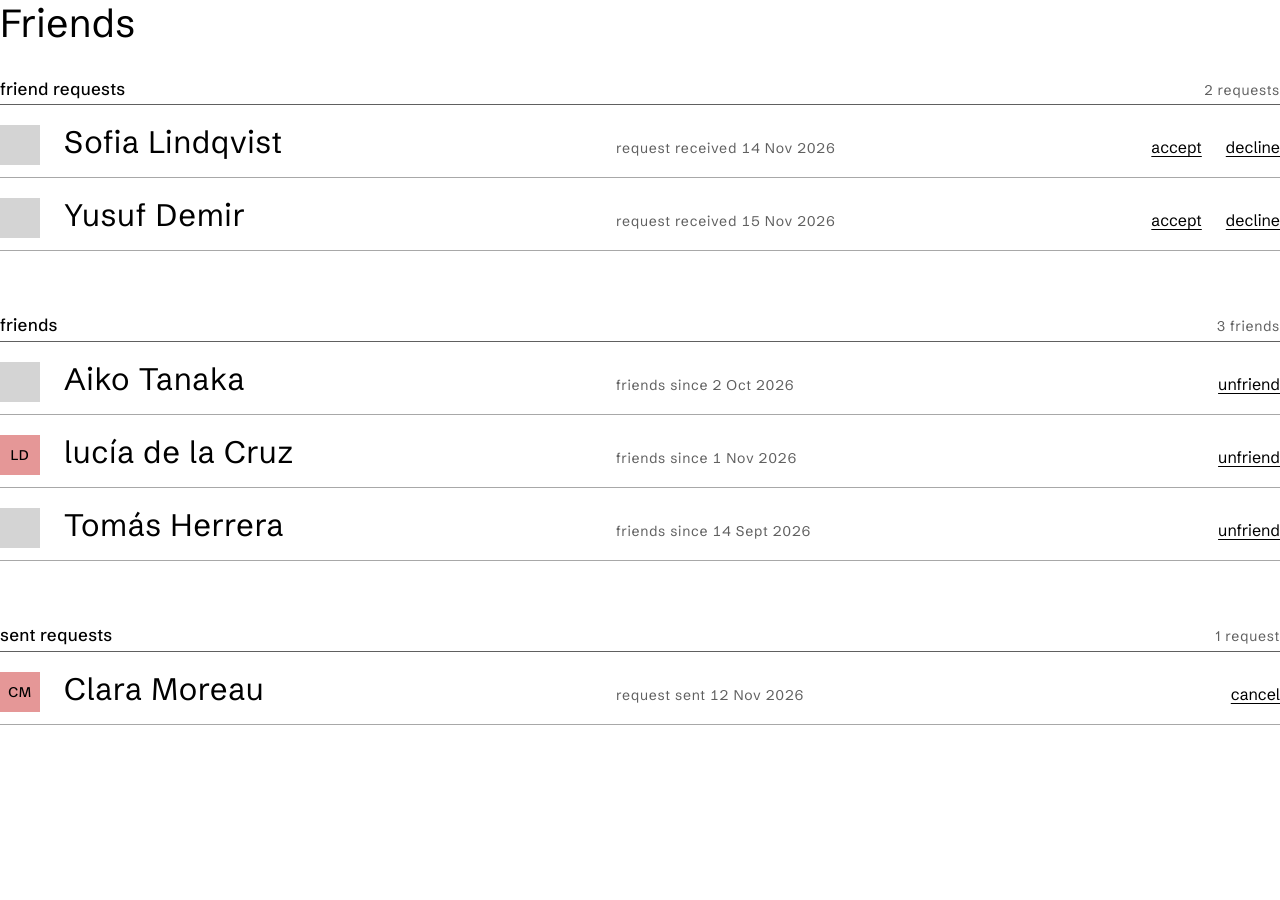
FriendsPage actions (F-49, F-50, F-55, B-26, B-27) › F-50: "unfriend" asks first and then removes the friend
The image size is (1280, 900).
Expected: the element "friends" is shown, [0, 315, 1279, 561]
Click the button named "unfriend Tomás Herrera" at (1249, 531), box [1218, 519, 1279, 543]
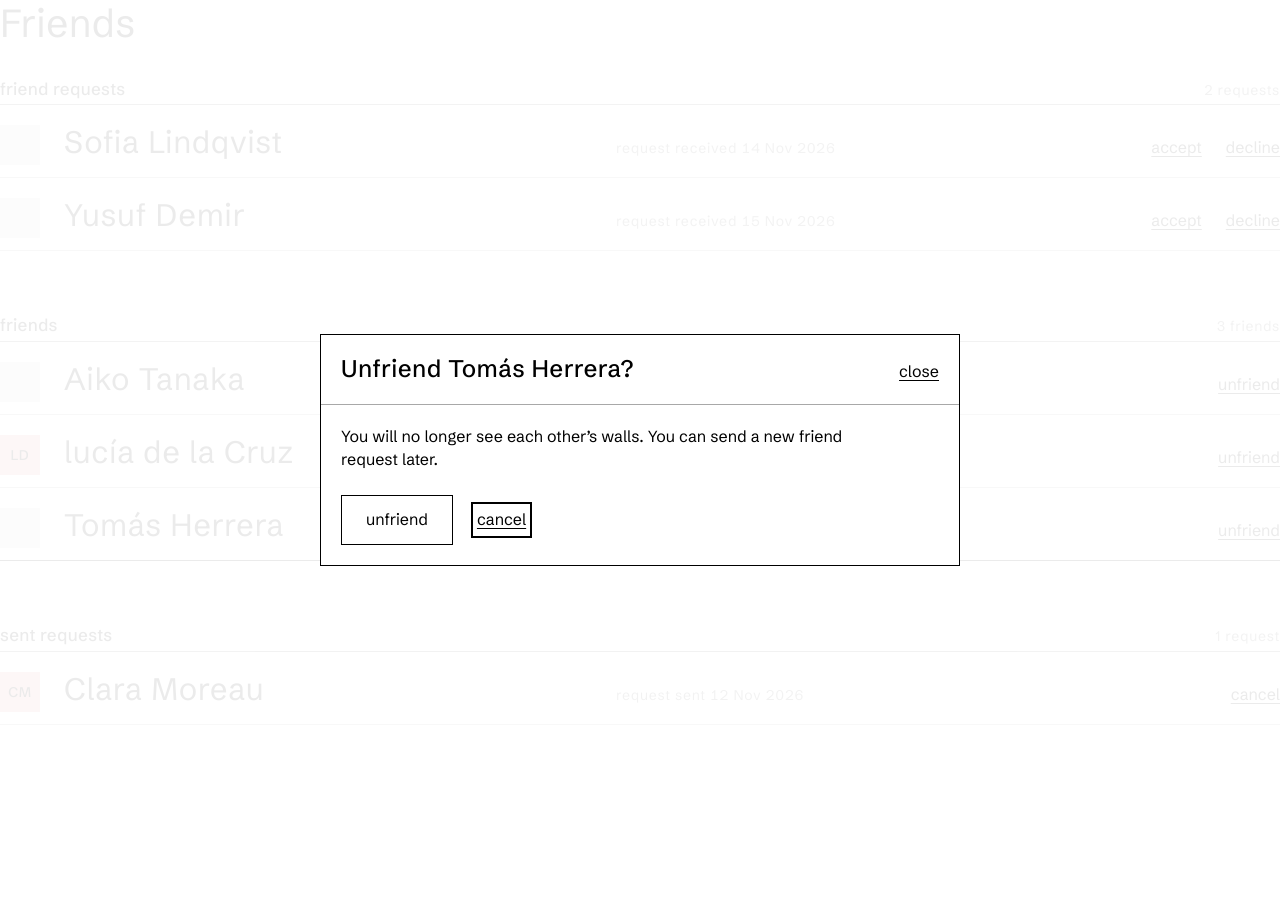
Click the button "unfriend" at (397, 520), box [341, 496, 453, 545]
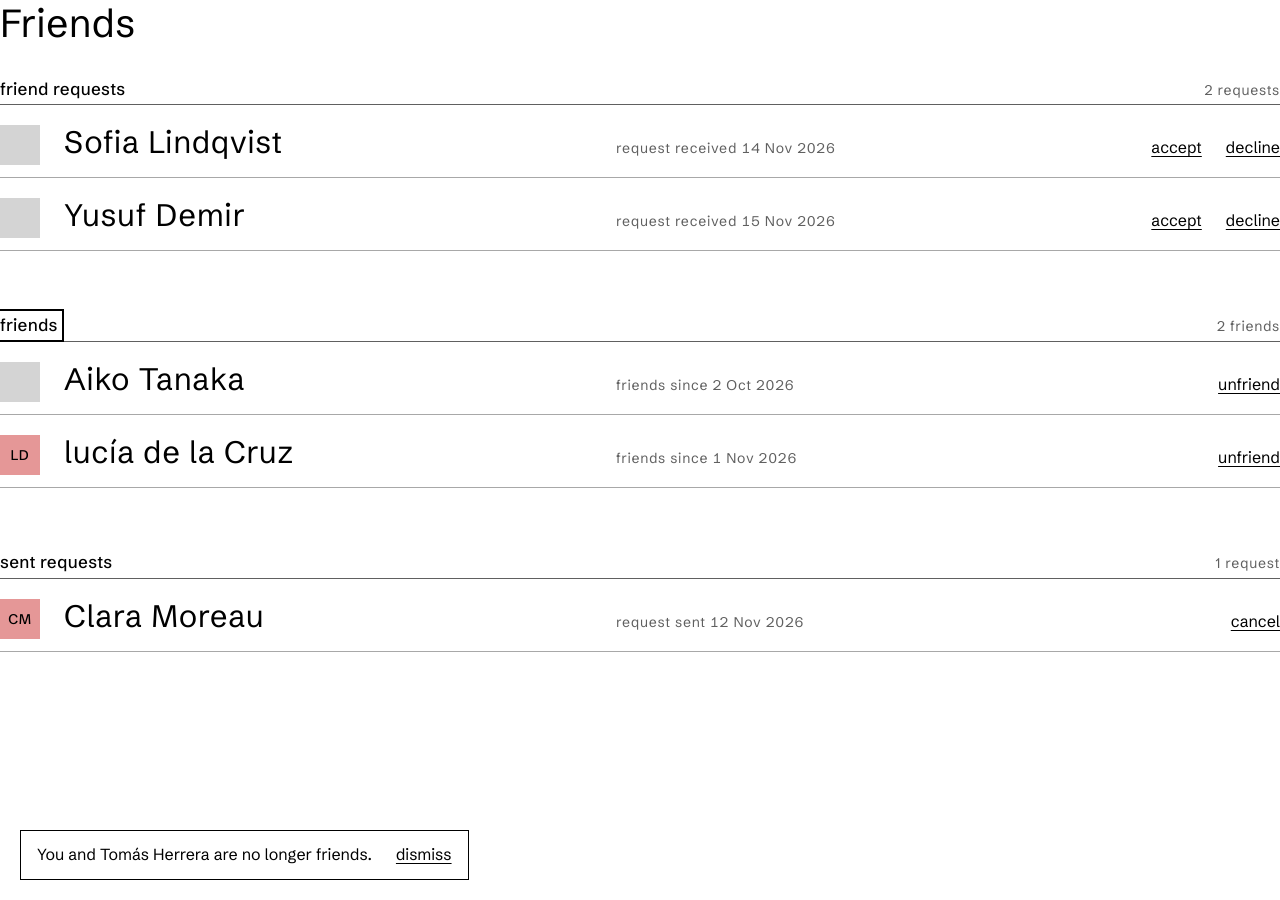
Expected: the dialog is gone
